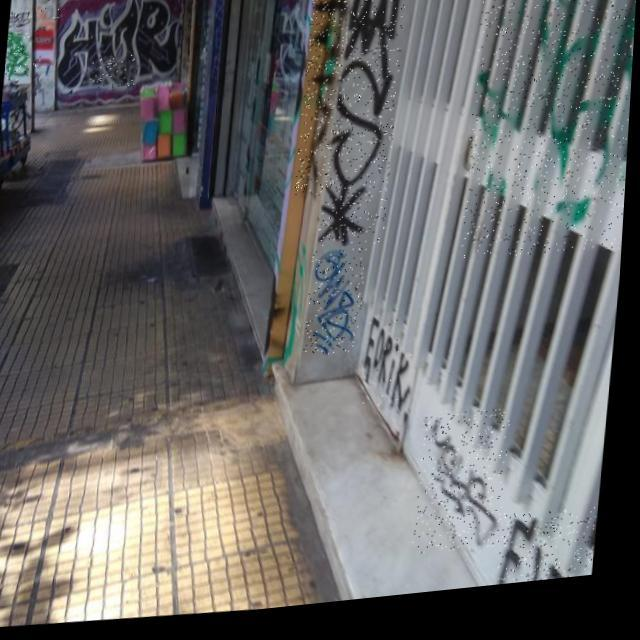-: (462, 0, 640, 275), (320, 0, 409, 256), (418, 416, 516, 566), (296, 0, 346, 204), (504, 518, 604, 596), (308, 252, 370, 366), (360, 316, 421, 423), (32, 0, 62, 68), (84, 55, 138, 92), (5, 32, 32, 82), (8, 9, 32, 29)
